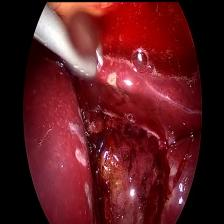Irrigator: (57, 32, 99, 78)
